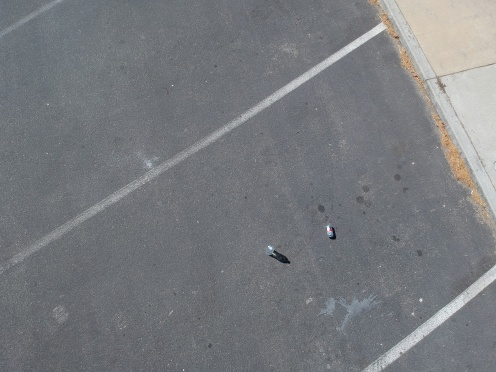bottle: (260, 242, 279, 259)
can: (323, 222, 337, 240)
